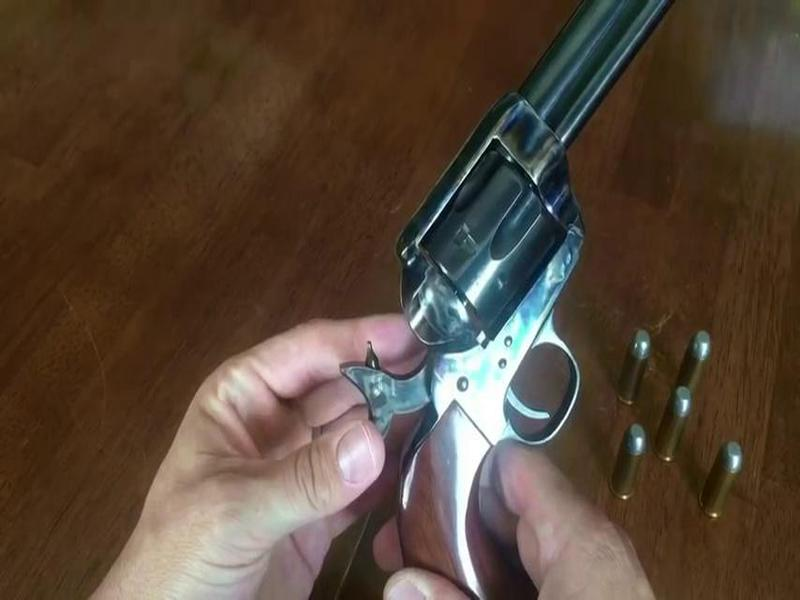Revolver: (398, 5, 674, 600)
